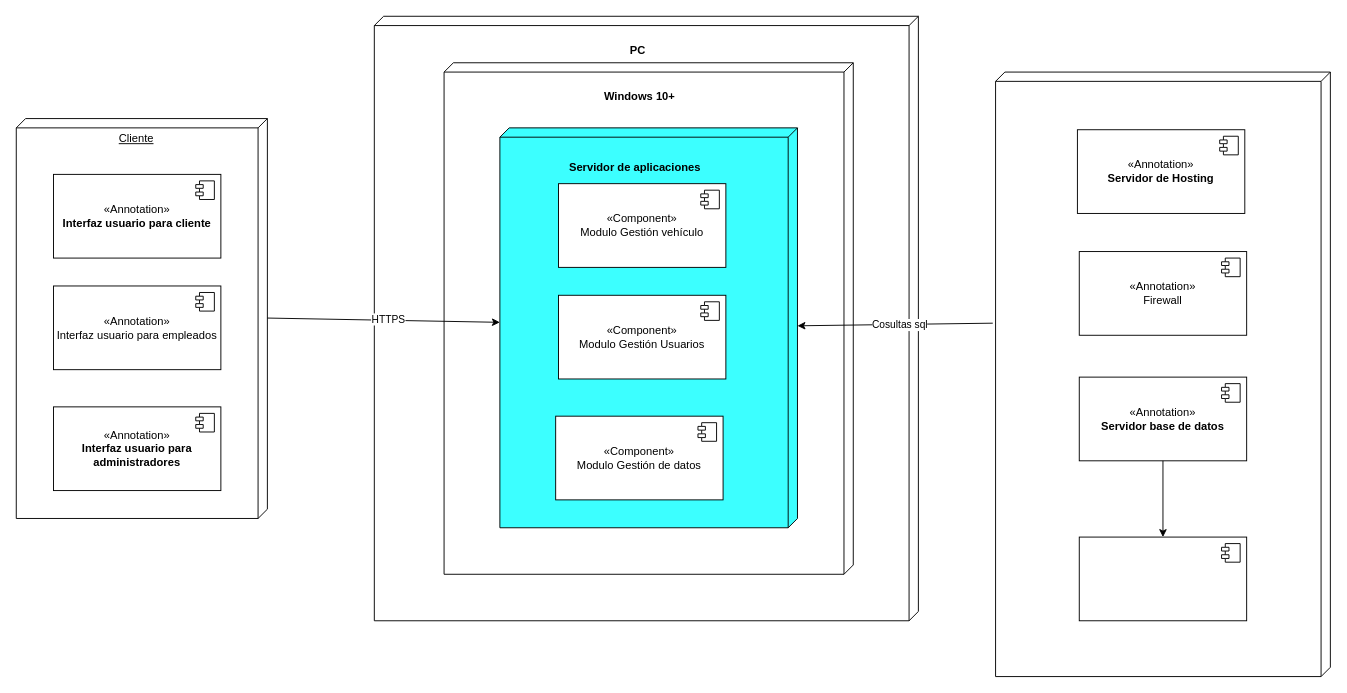
Image size: 1347x693. Some labels were removed from this diagram. The shapes that lost their labels are listed below. From the top down, each one's box as (x1, y1, x2, y2) in pixels, then its label:
(373, 15, 918, 621): <<ClientWorkStation>>
(443, 62, 853, 574): <<OS>>
(499, 127, 797, 528): <<ApplicationServer>>
(995, 71, 1330, 677): Infraestructura
(1078, 536, 1247, 621): « Component » Sitema de respaldo
